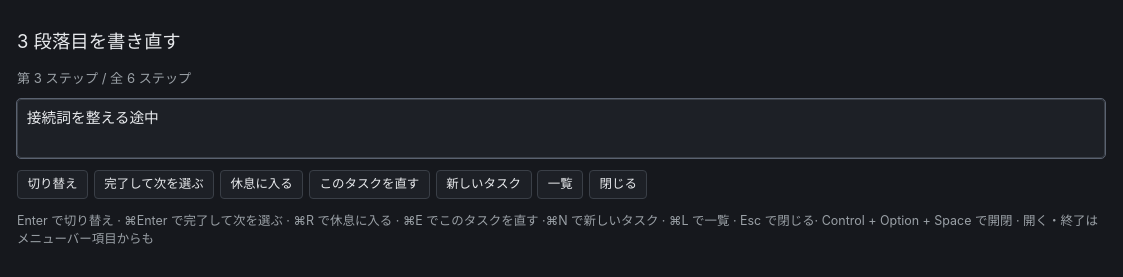
Test case: メモを空にしたまま確定しても切り替えは完了する
Clear the text box with class "note" at (561, 129), box 17,99 -> 1105,158
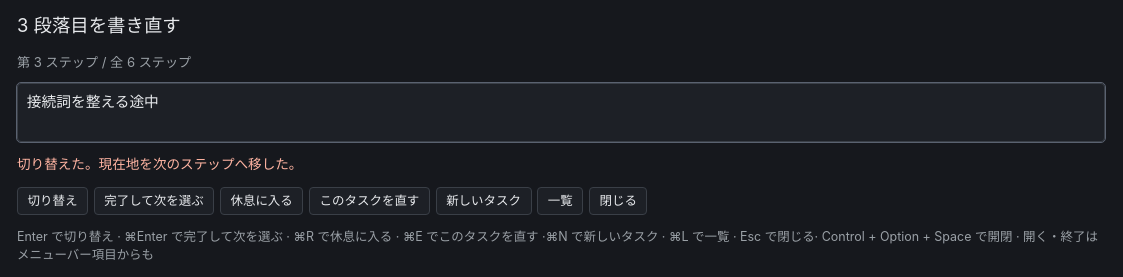
Check: the message "切り替えた。現在地を次のステップへ移した。" is shown, box 17,156 -> 302,172
